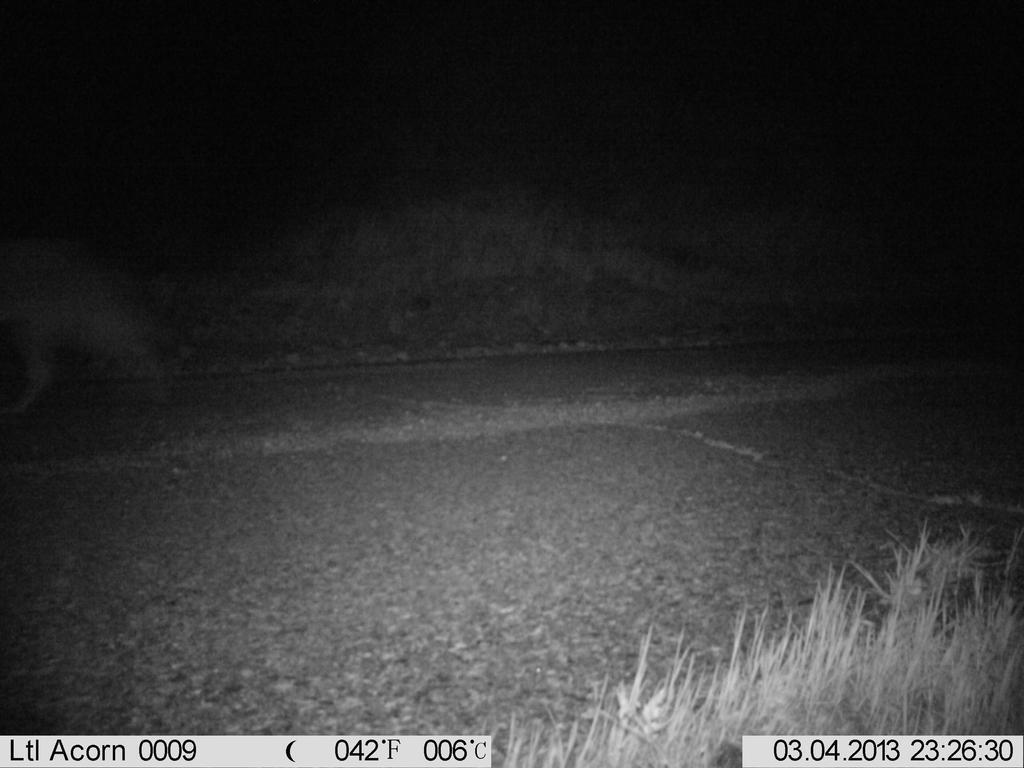coyote: (2, 227, 189, 424)
